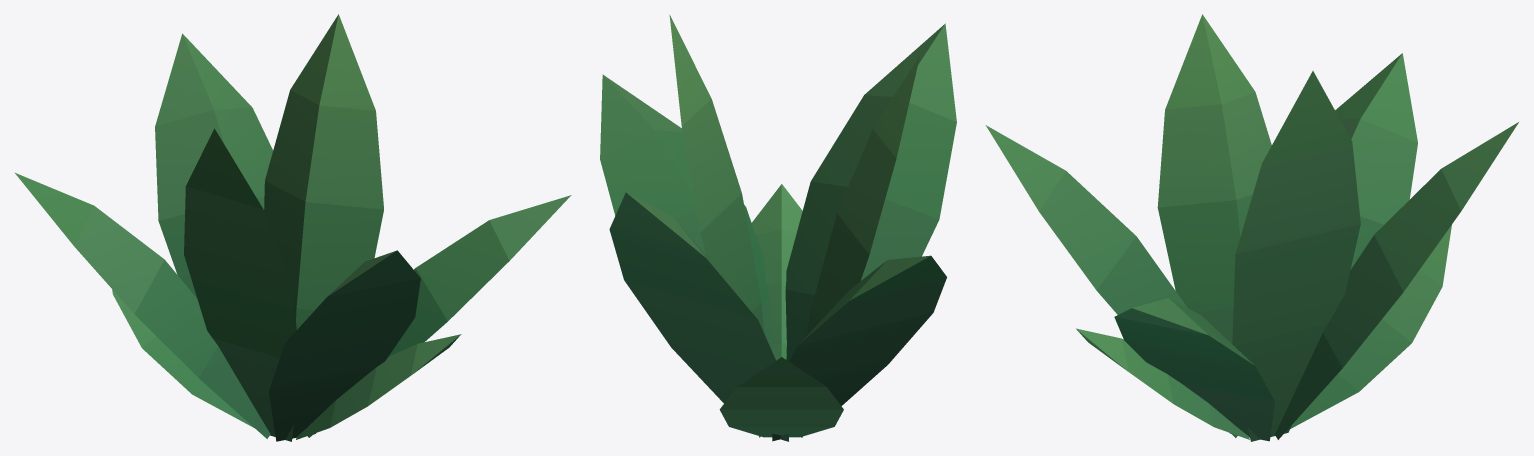
File: plant_jungle_leaf_v3.fbx
3 views of the same model, side by side, from view 1: azimuth 30°, elevation 25°; view 2: azimuth 150°, elevation 25°; view 3: azimuth 270°, elevation 25° (orthographic). The views are drawn at different scales.
Visible parts, largest first — view 1: plant_jungle_leaf_v3; view 2: plant_jungle_leaf_v3; view 3: plant_jungle_leaf_v3.
Boxes of the visible parts, x1,y1,x2,y2 form: plant_jungle_leaf_v3: [15, 14, 571, 441]; plant_jungle_leaf_v3: [600, 14, 956, 441]; plant_jungle_leaf_v3: [985, 14, 1518, 441].
Bounding box in the file's own units: 414 × 349 × 424.
